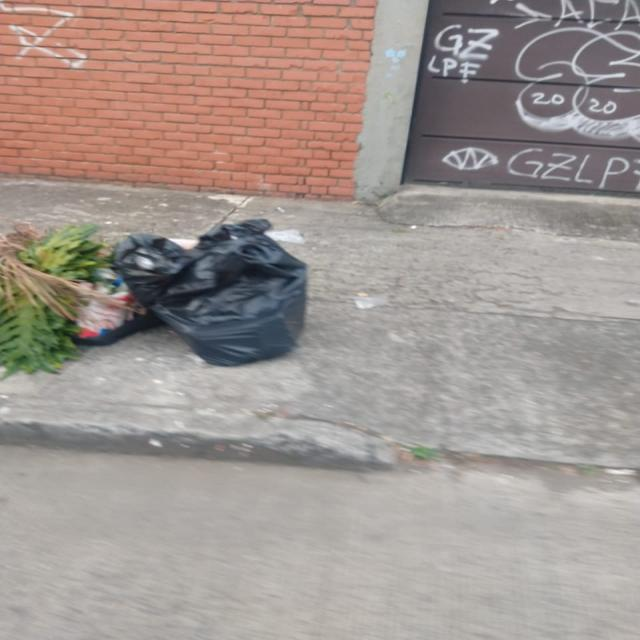high trash: (0, 219, 306, 373)
